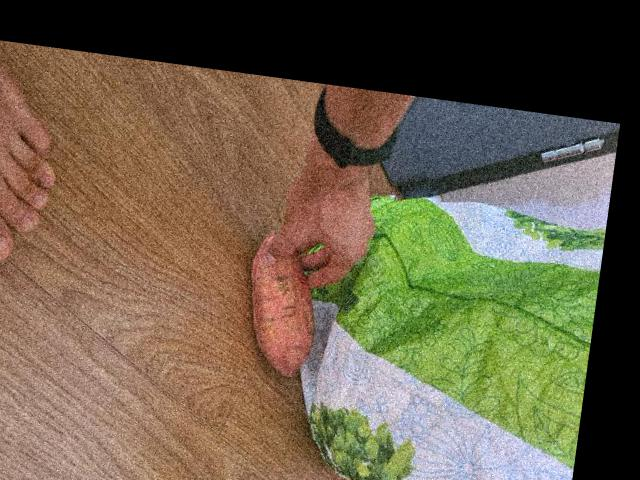sweet_potato: (236, 229, 327, 383)
